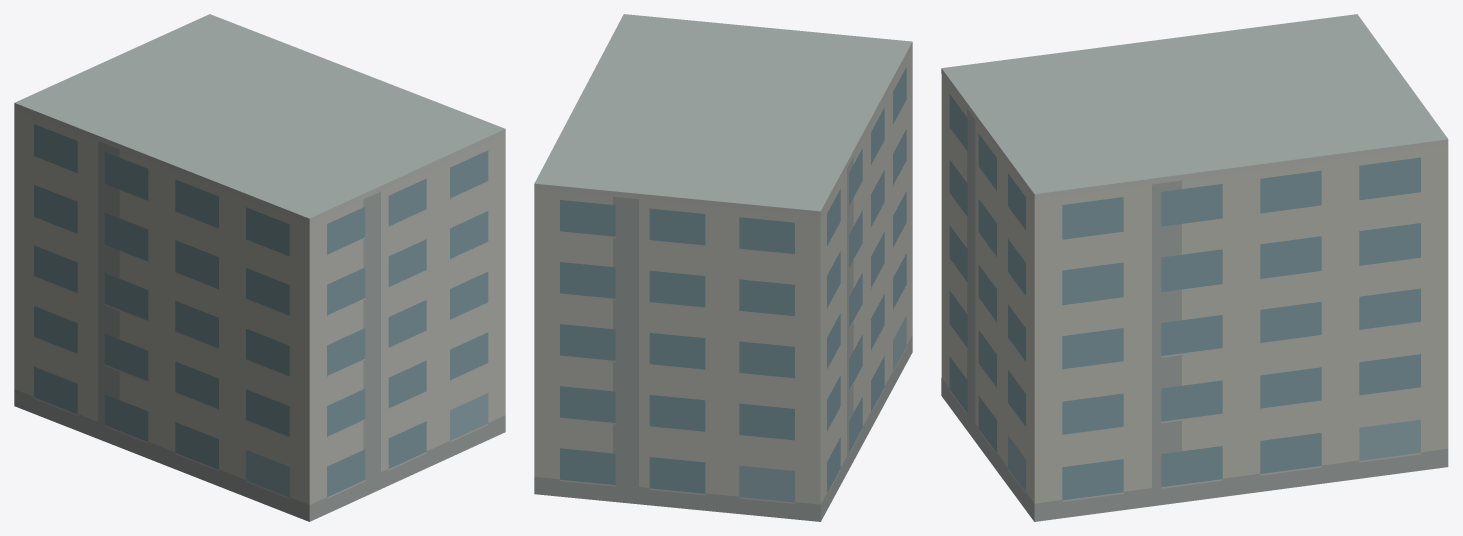
Rendered from survey-upis-33041015.glb.
3 renders of one model, left to right at view 1: azimuth 30°, elevation 25°; view 2: azimuth 150°, elevation 25°; view 3: azimuth 270°, elevation 25°, orthographic. The views are drawn at different scales.
Visible parts, largest first — view 1: survey-upis-33041015.tmp; view 2: survey-upis-33041015.tmp; view 3: survey-upis-33041015.tmp.
Part boxes in pixels (<box>): survey-upis-33041015.tmp: <box>14,14,505,521</box>; survey-upis-33041015.tmp: <box>534,14,912,521</box>; survey-upis-33041015.tmp: <box>941,14,1448,521</box>.
Size of the model in its own units: 16.17 by 13.7 by 19.22.
